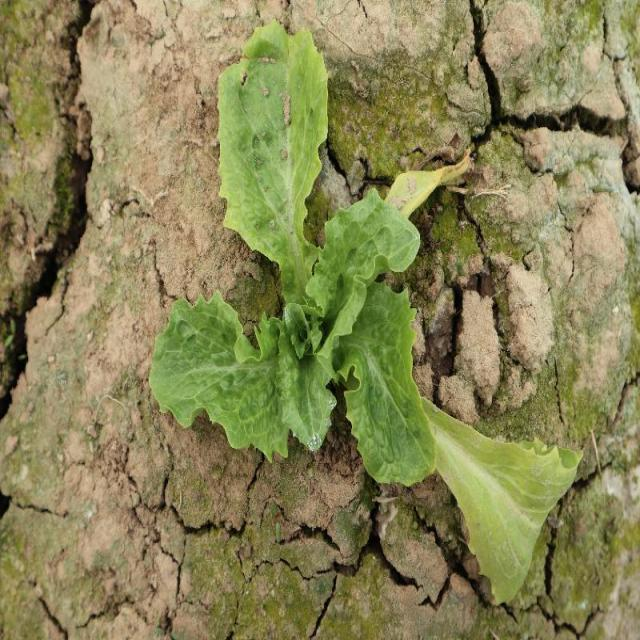crop: (147, 27, 440, 494)
